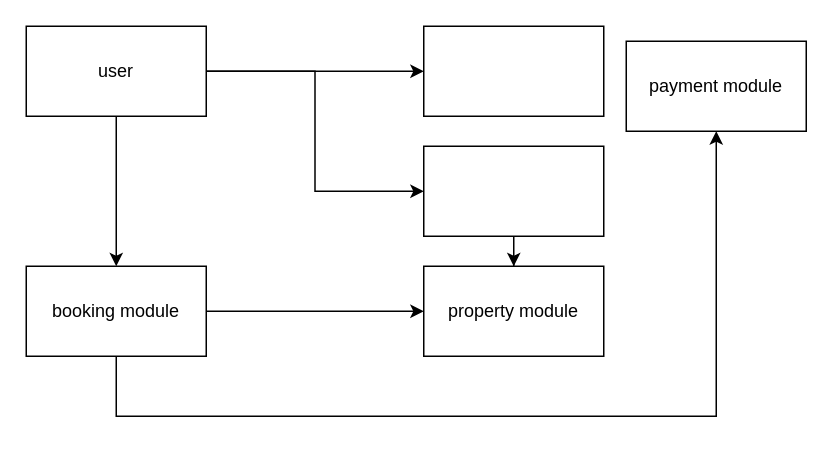
Image size: 833x455. Some labels were removed from this diagram. The shapes that lost their labels are listed below. From the top down, each one's box as (x1, y1, x2, y2) in pixels, then its label:
(422, 25, 604, 116): auth module
(422, 145, 604, 236): review module
